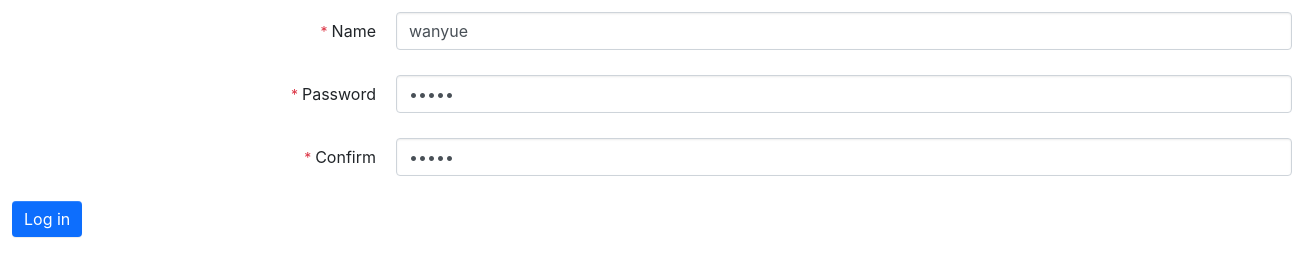
Test: testing Form component › submit form with invliad values should show the error message
Clear the field showing "wanyue": (844, 31) [396,12,1292,50]
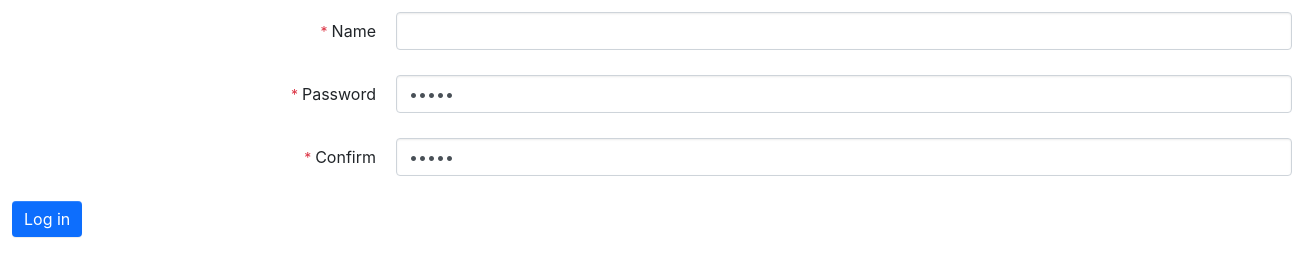
Clear the password field showing "12345" next to "Password": (844, 94) [396,75,1292,113]
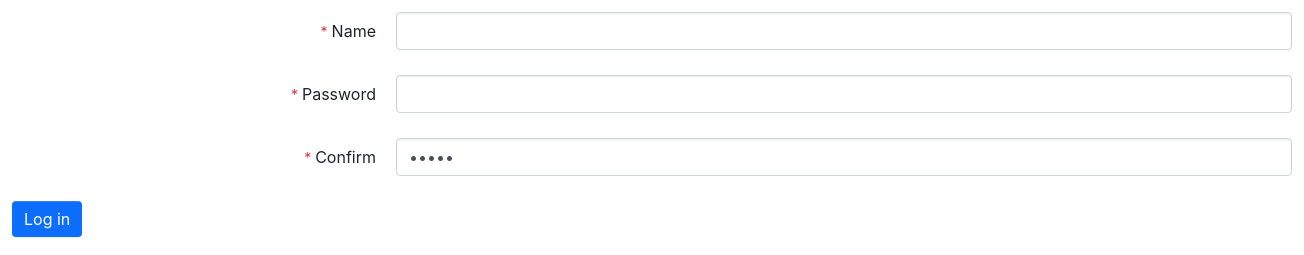
Click the button "Log in": (47, 219) [12,201,82,237]
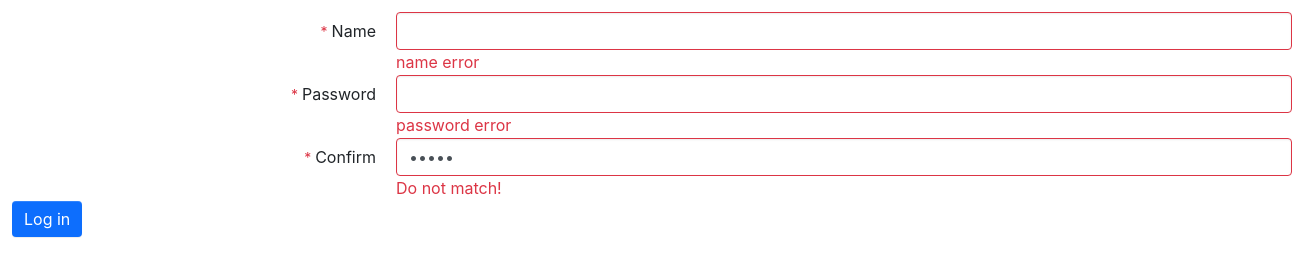
Expected: the text "name error" is shown, [396,52,479,72]
Expected: the text "password error" is shown, [396,115,511,135]
